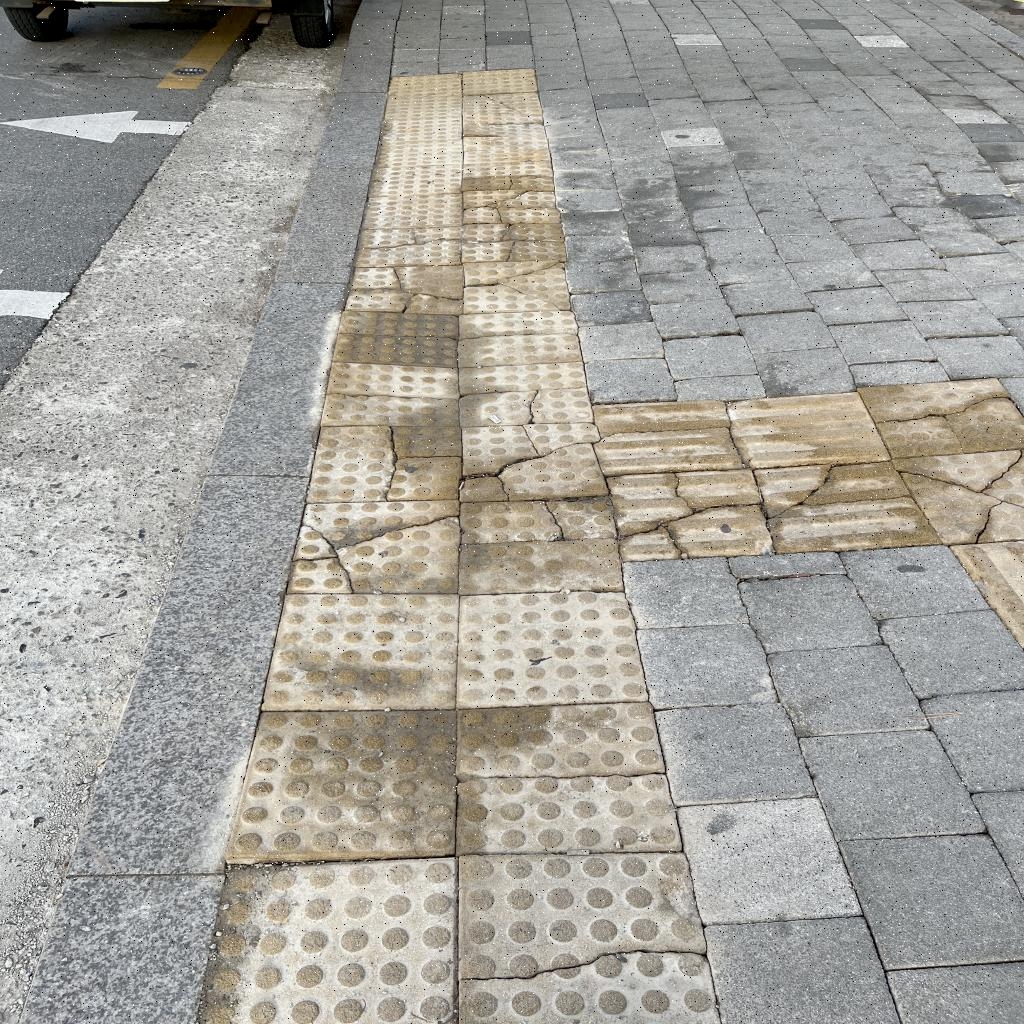Stop block broken: (455, 704, 679, 853), (458, 499, 622, 594), (287, 501, 458, 592), (458, 422, 609, 500), (307, 427, 460, 502), (459, 362, 593, 427), (345, 263, 463, 313), (464, 261, 570, 312), (463, 223, 566, 262), (356, 226, 461, 264)
Stop block normal: (453, 589, 646, 707), (264, 595, 458, 708), (363, 194, 463, 229)
Straight block broken: (755, 460, 940, 553), (609, 468, 773, 561)
Straight block normal: (726, 391, 889, 466)
